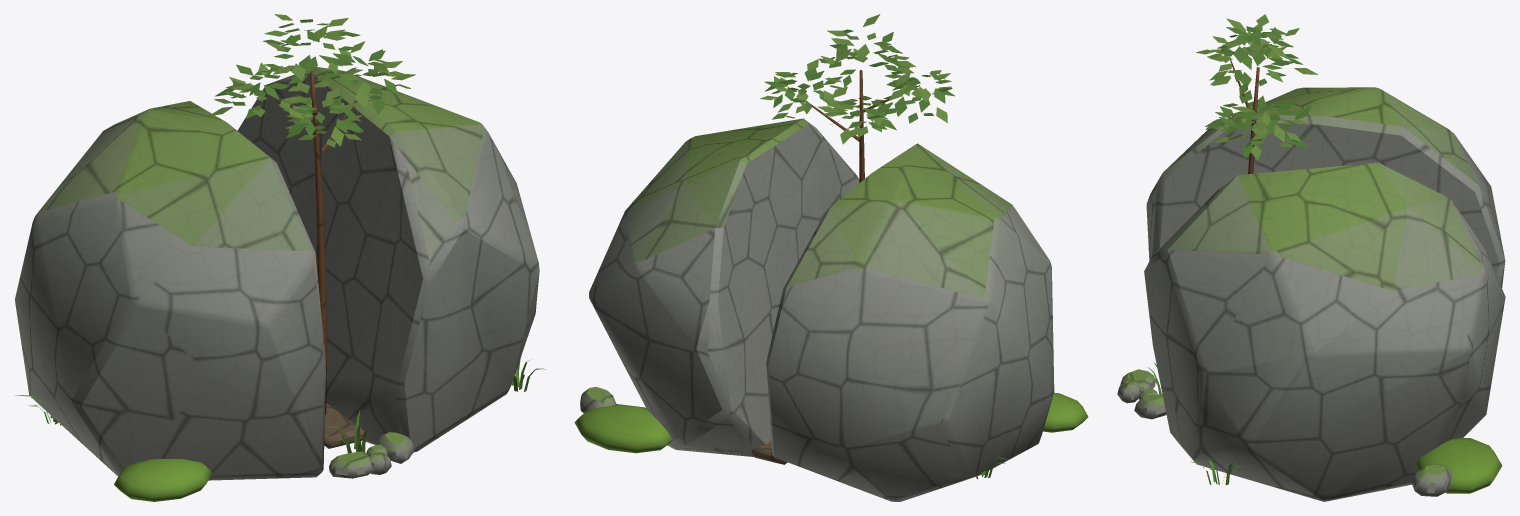
File: boulder_split.glb
The picture shows the model from 3 angles, left to right: view 1: azimuth 30°, elevation 25°; view 2: azimuth 150°, elevation 25°; view 3: azimuth 270°, elevation 25°; orthographic projection. The views are drawn at different scales.
Visible parts, largest first — view 1: boulder_split; view 2: boulder_split; view 3: boulder_split.
Part boxes in pixels (x1=…): boulder_split: x1=14, y1=14, x2=545, y2=501; boulder_split: x1=574, y1=14, x2=1088, y2=501; boulder_split: x1=1117, y1=14, x2=1505, y2=501.
Size of the model in its own units: 3.97 by 3.61 by 3.1.
7 materials, 7 textured.
